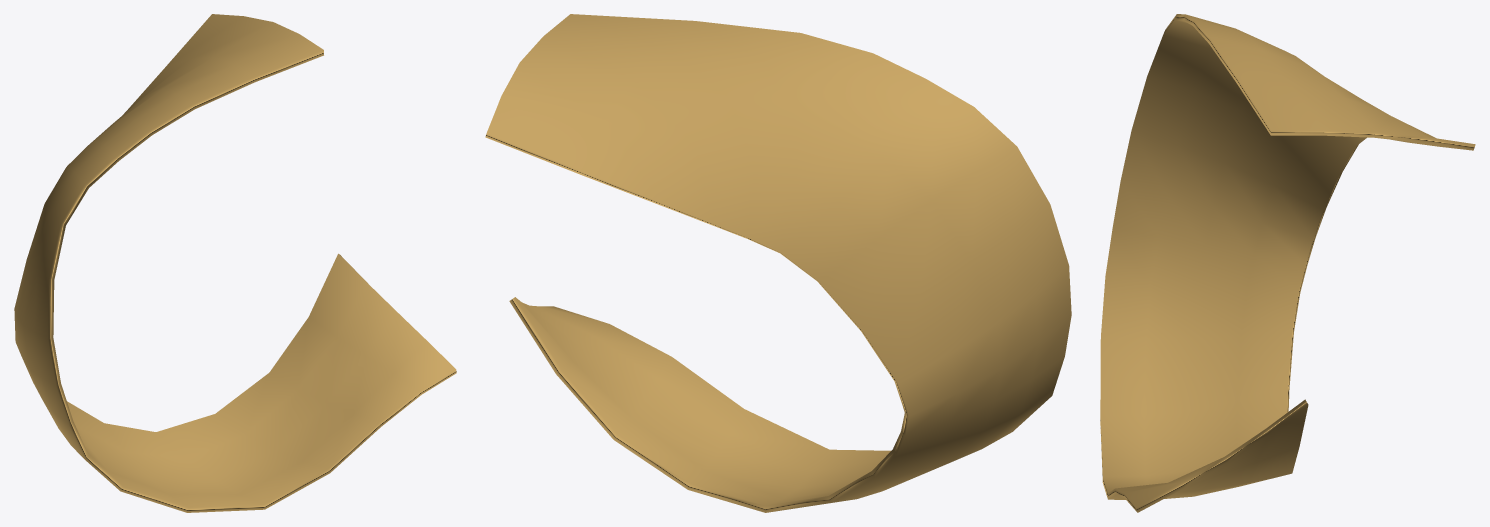
3 views of the same model, side by side, from view 1: azimuth 30°, elevation 25°; view 2: azimuth 150°, elevation 25°; view 3: azimuth 270°, elevation 25° (orthographic). The views are drawn at different scales.
Visible parts, largest first — view 1: 右侧桡骨环状韧带; view 2: 右侧桡骨环状韧带; view 3: 右侧桡骨环状韧带.
Part boxes in pixels (<box>): 右侧桡骨环状韧带: <box>14,14,456,512</box>; 右侧桡骨环状韧带: <box>485,14,1071,512</box>; 右侧桡骨环状韧带: <box>1100,14,1475,512</box>.
Bounding box in the file's own units: 0.0368 × 0.0325 × 0.0254.
